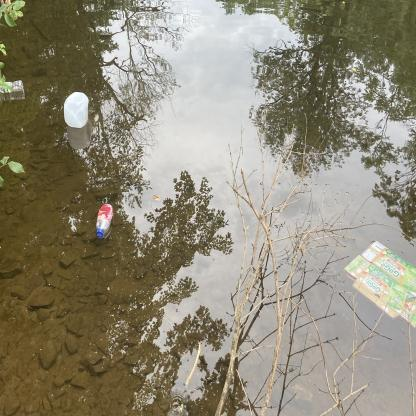trash: (344, 236, 416, 334), (61, 87, 93, 131), (92, 199, 118, 241), (0, 78, 29, 100)
